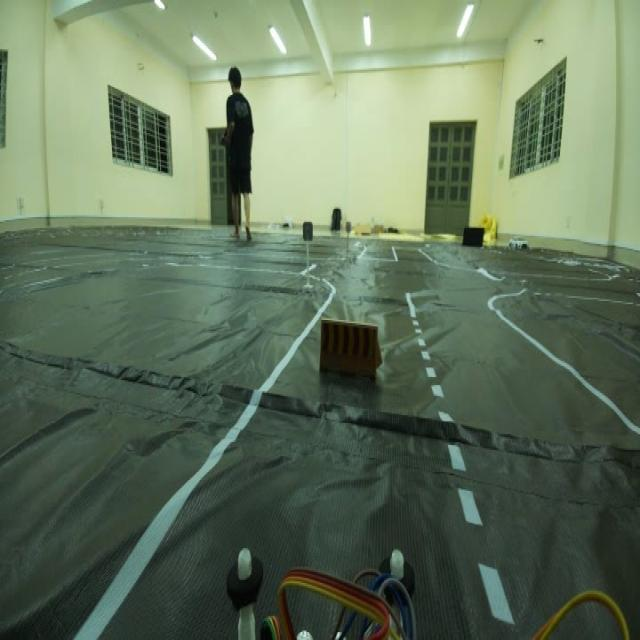roadblock: (316, 306, 389, 399)
